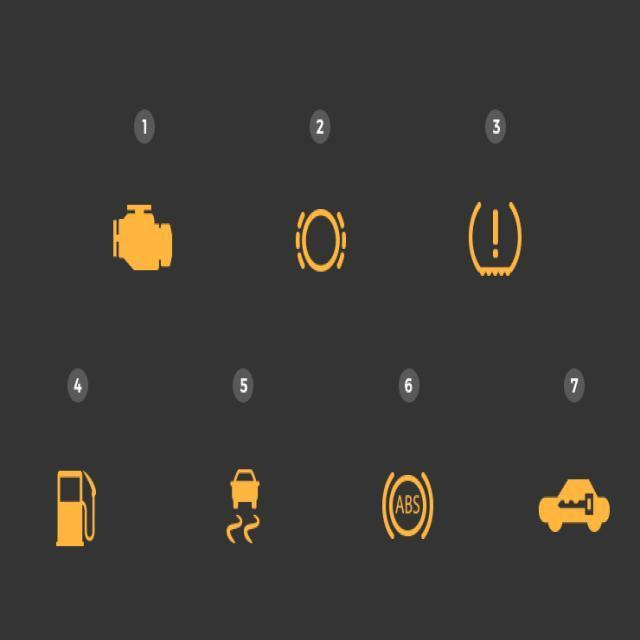Low fuel level: (54, 468, 96, 546)
